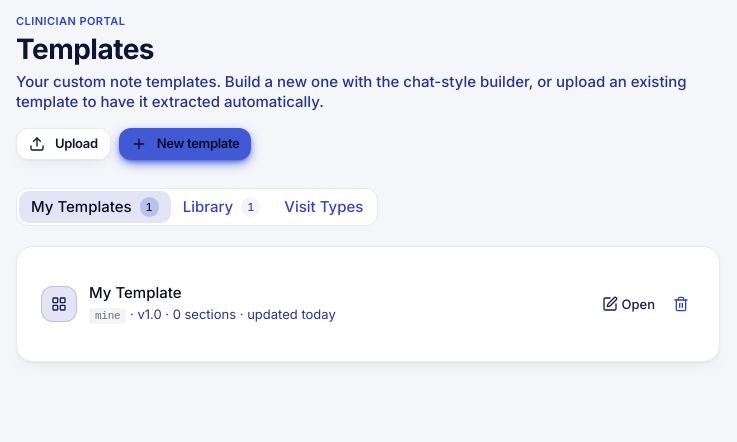
Test: PortalTemplatesPage — tabbed My Templates / Library split + fork › surfaces a friendly error when the fork fails
Click the tab with test id "templates-tab-library" at [222, 207], box [171,191,272,223]
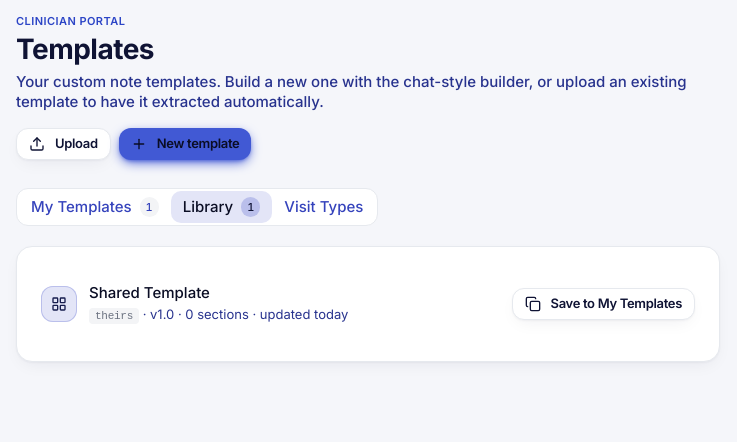
Click the button "Save to My Templates" at [603, 304], box [512,288,695,320]
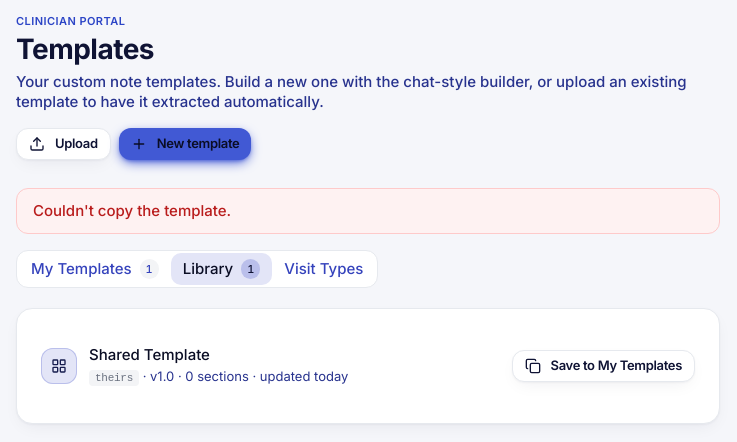
Now the text "Couldn't copy the template." is shown, box [16,188,720,234]
